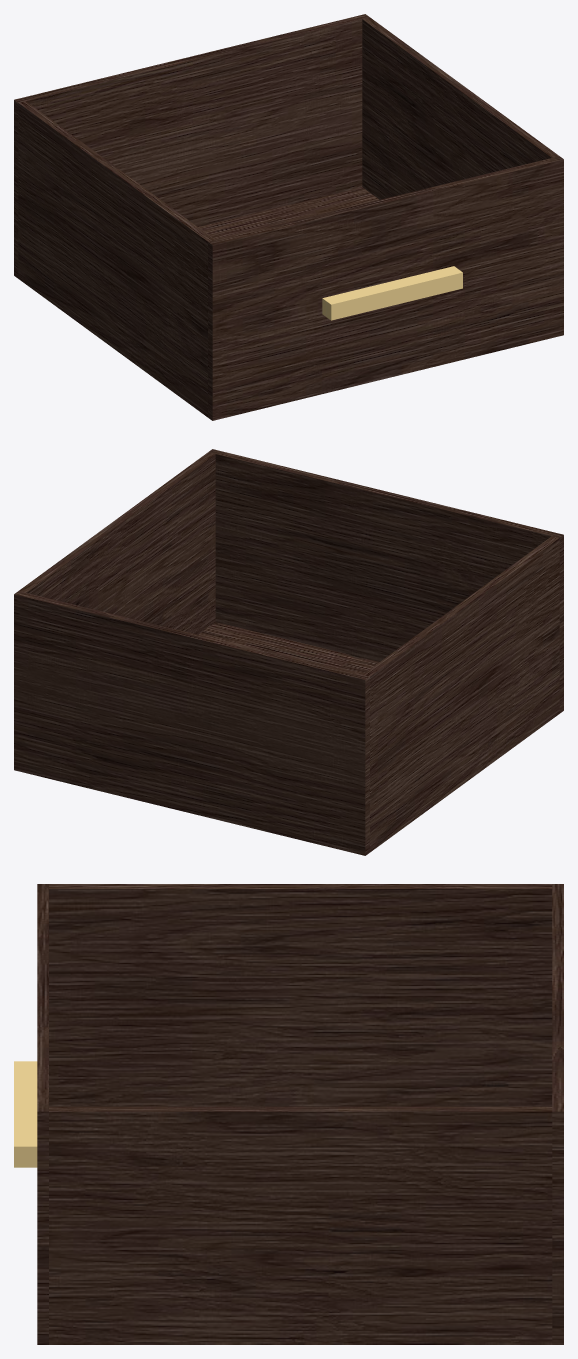
File: bedside_cabinet_drawer_2.glb
3 views of the same model, one above another, from view 1: azimuth 30°, elevation 25°; view 2: azimuth 150°, elevation 25°; view 3: azimuth 270°, elevation 25° (orthographic). The views are drawn at different scales.
Visible parts, largest first — view 1: bedside_cabinet_drawer:polySurface1; view 2: bedside_cabinet_drawer:polySurface1; view 3: bedside_cabinet_drawer:polySurface1.
Boxes of the visible parts, box(x1,y1,x2,y2) form: bedside_cabinet_drawer:polySurface1: box(14, 14, 563, 420); bedside_cabinet_drawer:polySurface1: box(14, 449, 563, 855); bedside_cabinet_drawer:polySurface1: box(14, 884, 563, 1344).
Size of the model in its own units: 1.96 by 0.9362 by 2.
1 material, 1 textured.
